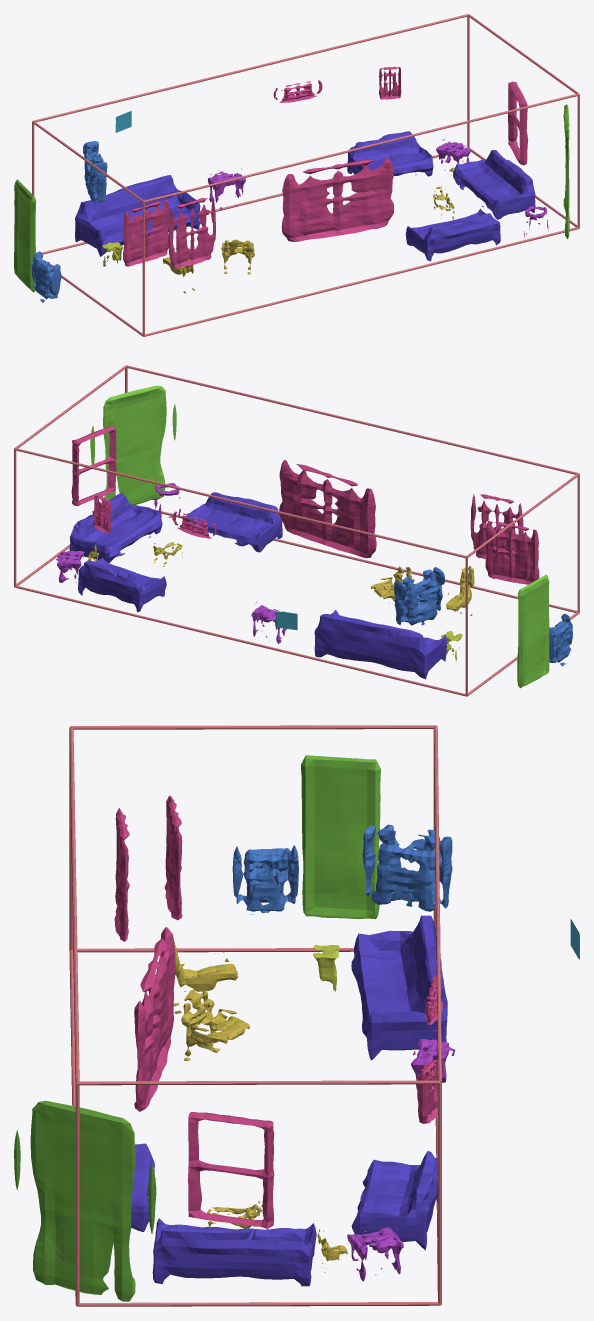
3 renders of one model, top to bottom at view 1: azimuth 30°, elevation 25°; view 2: azimuth 150°, elevation 25°; view 3: azimuth 270°, elevation 25°, orthographic. The views are drawn at different scales.
Visible parts, largest first — view 1: world; view 2: world; view 3: world.
Boxes of the visible parts, <box> form: world: <box>14,14,579,336</box>; world: <box>14,365,579,696</box>; world: <box>14,725,579,1306</box>.
Bounding box in the file's own units: 11.61 × 3.06 × 6.92.
